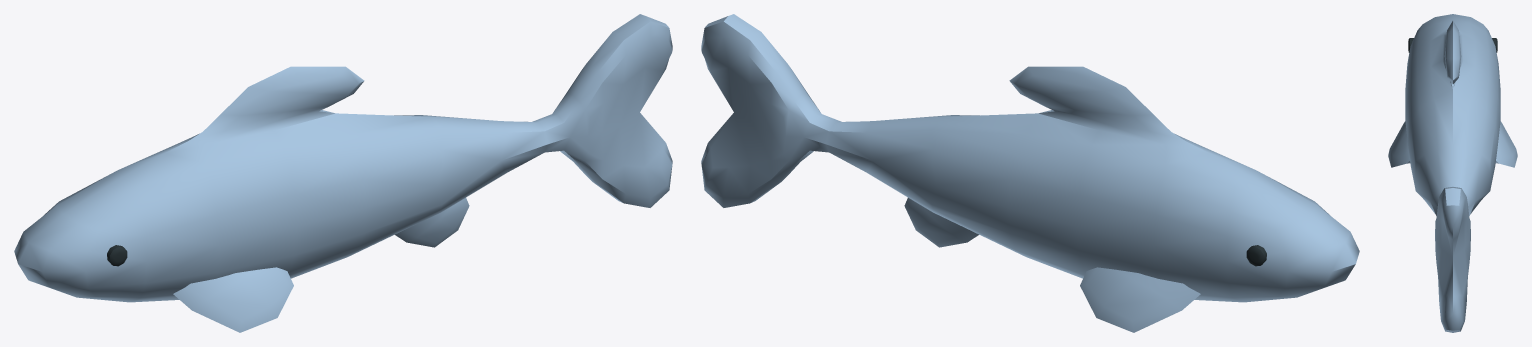
The model's file is fish_large_A.gltf.glb.
3 renders of one model, left to right at view 1: azimuth 30°, elevation 25°; view 2: azimuth 150°, elevation 25°; view 3: azimuth 270°, elevation 25°, orthographic. The views are drawn at different scales.
Visible parts, largest first — view 1: fish_large_A; view 2: fish_large_A; view 3: fish_large_A.
Part boxes in pixels (x1,y1,x2,y2): fish_large_A: (14,14,672,332); fish_large_A: (701,14,1359,332); fish_large_A: (1388,14,1517,332).
Bounding box in the file's own units: 1.22 × 0.4038 × 0.2752.
